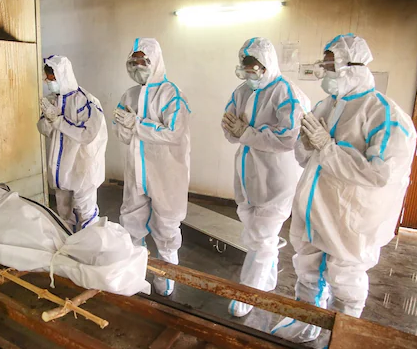Coverall: (294, 33, 415, 301), (224, 35, 307, 282), (112, 37, 189, 245), (37, 56, 109, 227)
Gloves: (299, 111, 331, 159), (220, 109, 251, 143), (113, 105, 138, 130), (39, 97, 61, 123)
Goggles: (233, 63, 263, 83), (125, 57, 156, 72)
with_mask: (126, 52, 151, 85)
